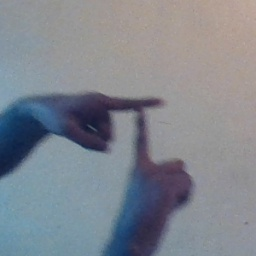T: (83, 78, 194, 190)
